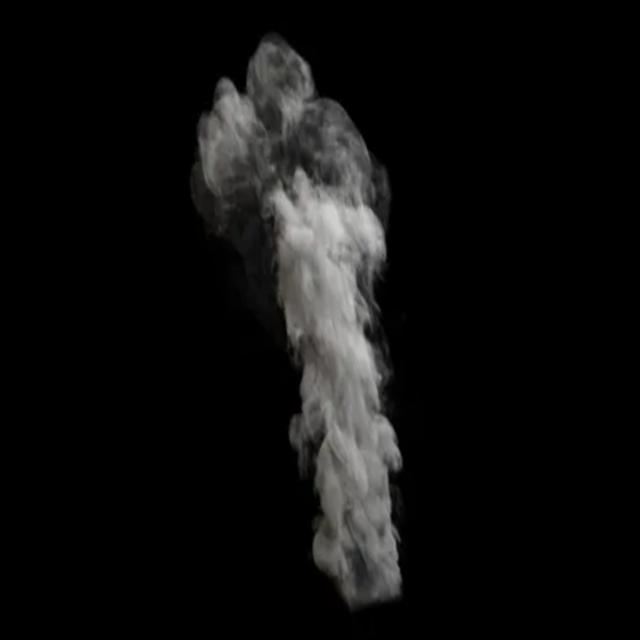Smoke: (180, 24, 452, 618)
